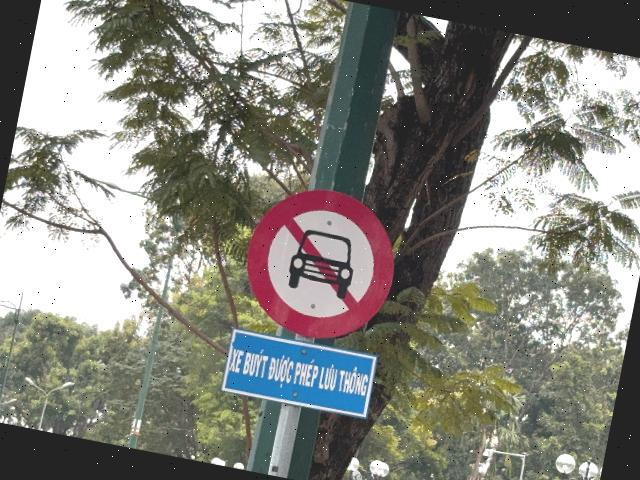cam-o-to: (234, 177, 406, 350)
